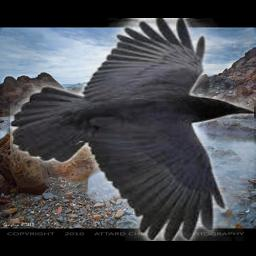Crow: (10, 18, 254, 241)
